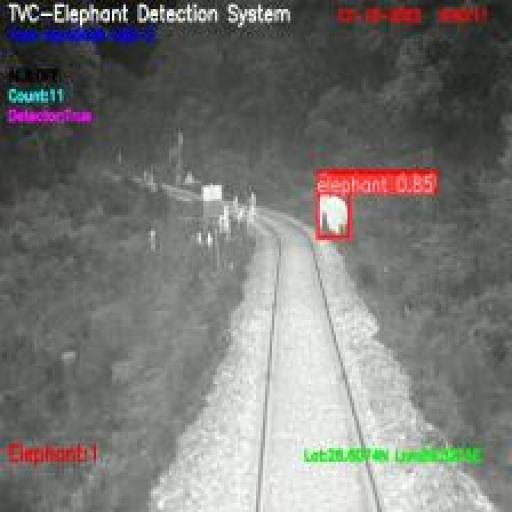Elephant: (318, 194, 351, 239)
